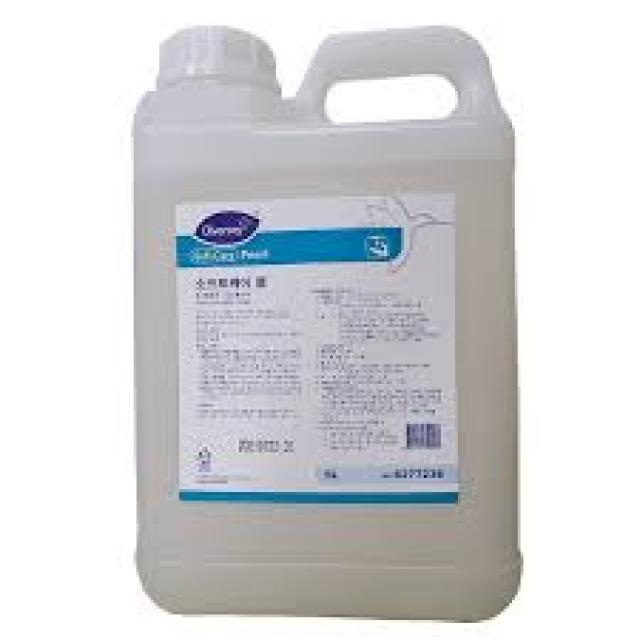liquid soap: (129, 15, 527, 623)
